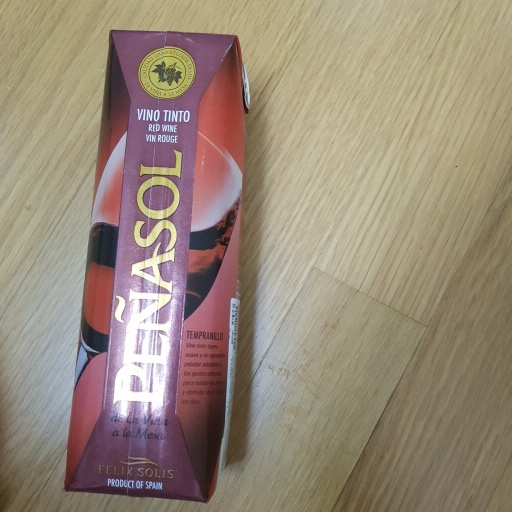Paper_0: (60, 24, 264, 511)
